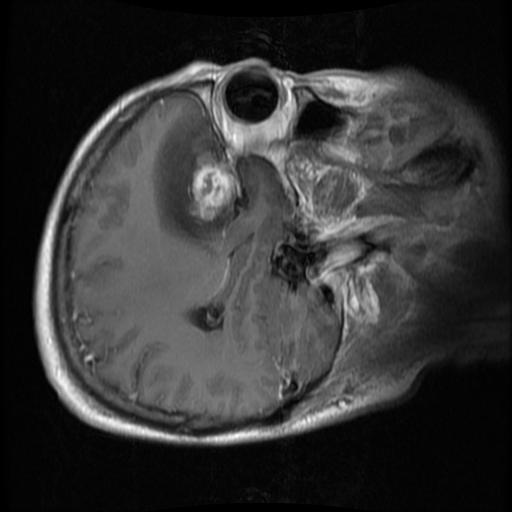meningioma: (186, 150, 234, 225)
